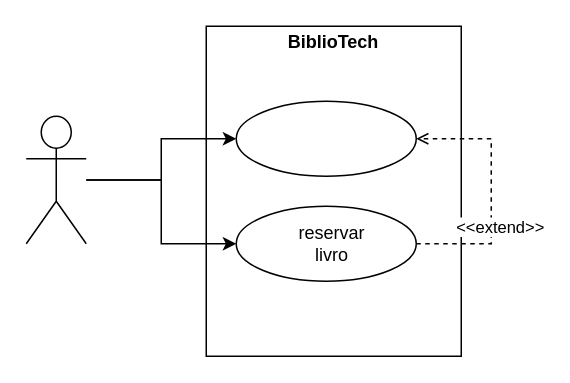
Some shapes in this 570 by 383 pixel diagram are drawn without their labels. Each missing label, with the centre of its shape:
"consultar catalogo" belongs at [325,138].
"leitor" belongs at [55,179].
